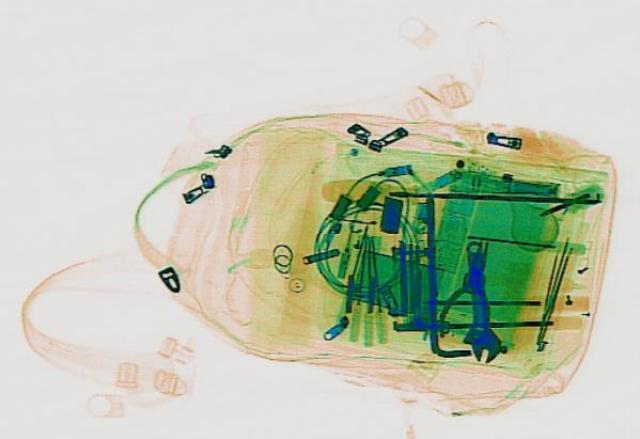Wrench: (454, 237, 504, 361)
